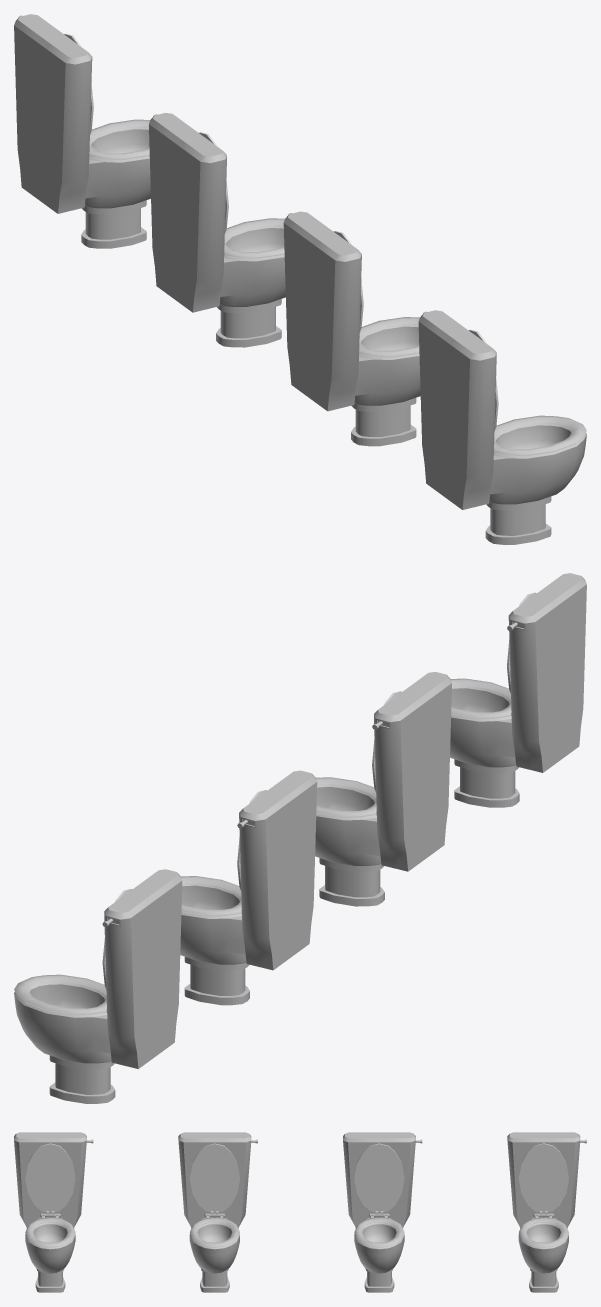
Rendered from Hea_Ba_Toilets.fbx.
3 views of the same model, one above another, from view 1: azimuth 30°, elevation 25°; view 2: azimuth 150°, elevation 25°; view 3: azimuth 270°, elevation 25° (orthographic). The views are drawn at different scales.
Visible parts, largest first — view 1: Toilet_I3, Toilet, Toilet_I2, Toilet_I1, Toilet_Seat.003, Toilet_Seat.002, Toilet_Seat.001, Toilet_Seat; view 2: Toilet, Toilet_I3, Toilet_I1, Toilet_I2, Toilet_Seat, Toilet_Seat.001, Toilet_Seat.002, Toilet_Seat.003; view 3: Toilet_I3, Toilet_I1, Toilet, Toilet_I2, Toilet_Lid, Toilet_Lid.001, Toilet_Lid.003, Toilet_Lid.002, Toilet_Seat, Toilet_Seat.002, Toilet_Seat.003, Toilet_Seat.001.
Part boxes in pixels (x1,y1,x2,y2): Toilet_I3: (418, 310, 586, 544); Toilet: (14, 14, 150, 248); Toilet_I2: (283, 211, 420, 446); Toilet_I1: (149, 113, 285, 347); Toilet_Seat.003: (494, 415, 586, 455); Toilet_Seat.002: (359, 317, 419, 356); Toilet_Seat.001: (224, 218, 284, 257); Toilet_Seat: (89, 119, 150, 159); Toilet: (14, 869, 182, 1103); Toilet_I3: (450, 573, 586, 807); Toilet_I1: (180, 770, 317, 1005); Toilet_I2: (315, 672, 451, 906); Toilet_Seat: (14, 974, 106, 1014); Toilet_Seat.001: (181, 876, 241, 915); Toilet_Seat.002: (316, 777, 376, 816); Toilet_Seat.003: (450, 678, 511, 718); Toilet_I3: (14, 1132, 86, 1292); Toilet_I1: (343, 1132, 415, 1292); Toilet: (507, 1132, 580, 1292); Toilet_I2: (178, 1132, 251, 1292); Toilet_Lid: (518, 1143, 568, 1213); Toilet_Lid.001: (354, 1143, 404, 1213); Toilet_Lid.003: (25, 1143, 75, 1213); Toilet_Lid.002: (189, 1143, 239, 1213); Toilet_Seat: (519, 1216, 568, 1246); Toilet_Seat.002: (190, 1216, 239, 1246); Toilet_Seat.003: (25, 1216, 75, 1246); Toilet_Seat.001: (354, 1216, 404, 1246).
Size of the model in its own units: 88.82 by 133 by 523.
